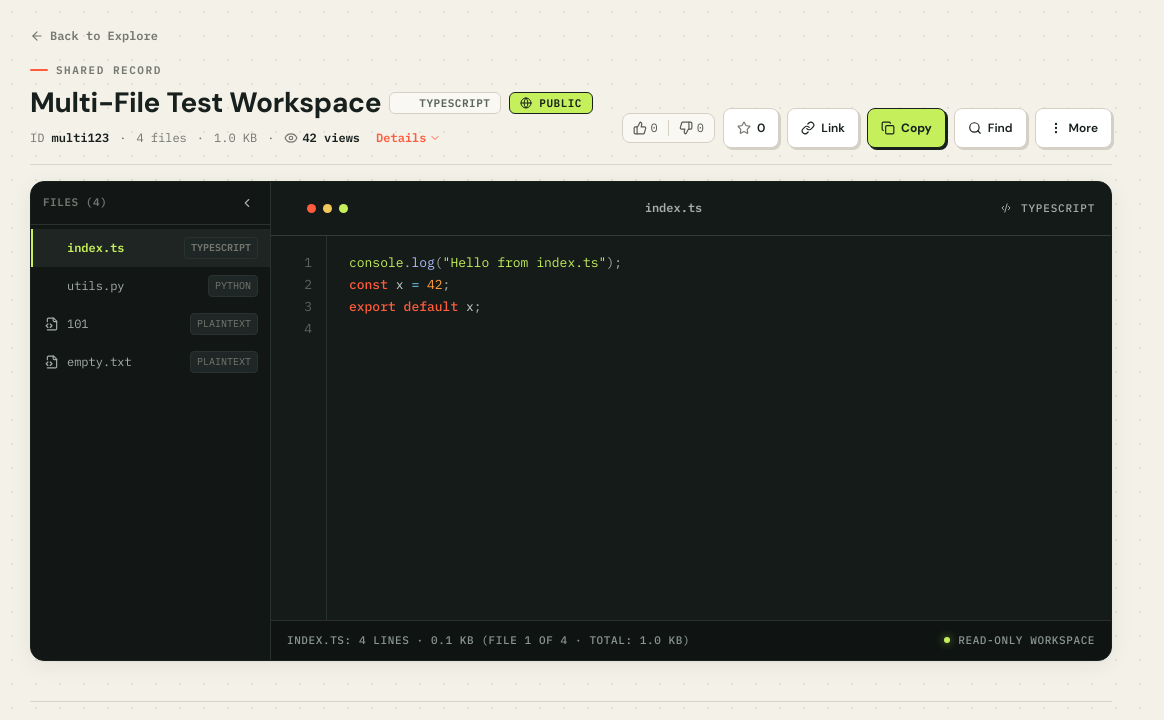
Test case: Multi-File Workspace (Developer Handoff Experience) › FE-WS-NAV-03: Clicking a <NavLink> switches active file without full page reload and updates URL
Expected: the heading "Multi-File Test Workspace" is shown, x1=30 y1=86 x2=381 y2=120
Click the link "utils.py python" at (96, 285), box x1=67 y1=275 x2=258 y2=297
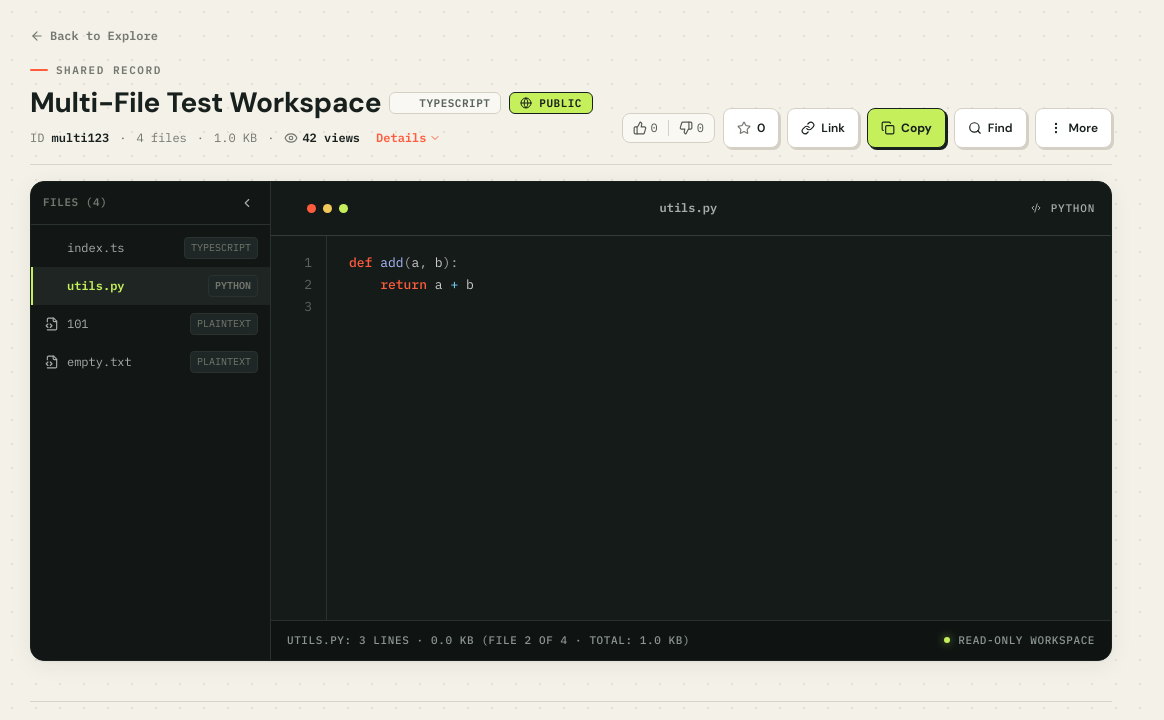
Expected: the text box named "Content of utils.py" is shown, x1=327 y1=236 x2=1111 y2=620
